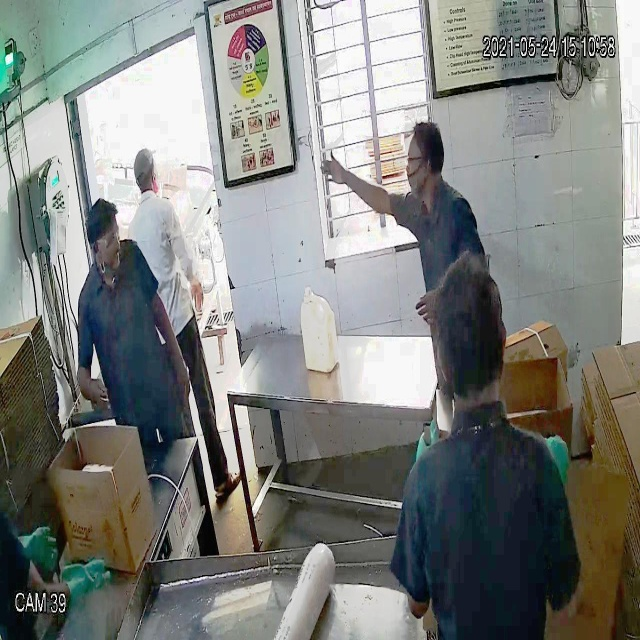Gafas: (87, 219, 121, 252)
